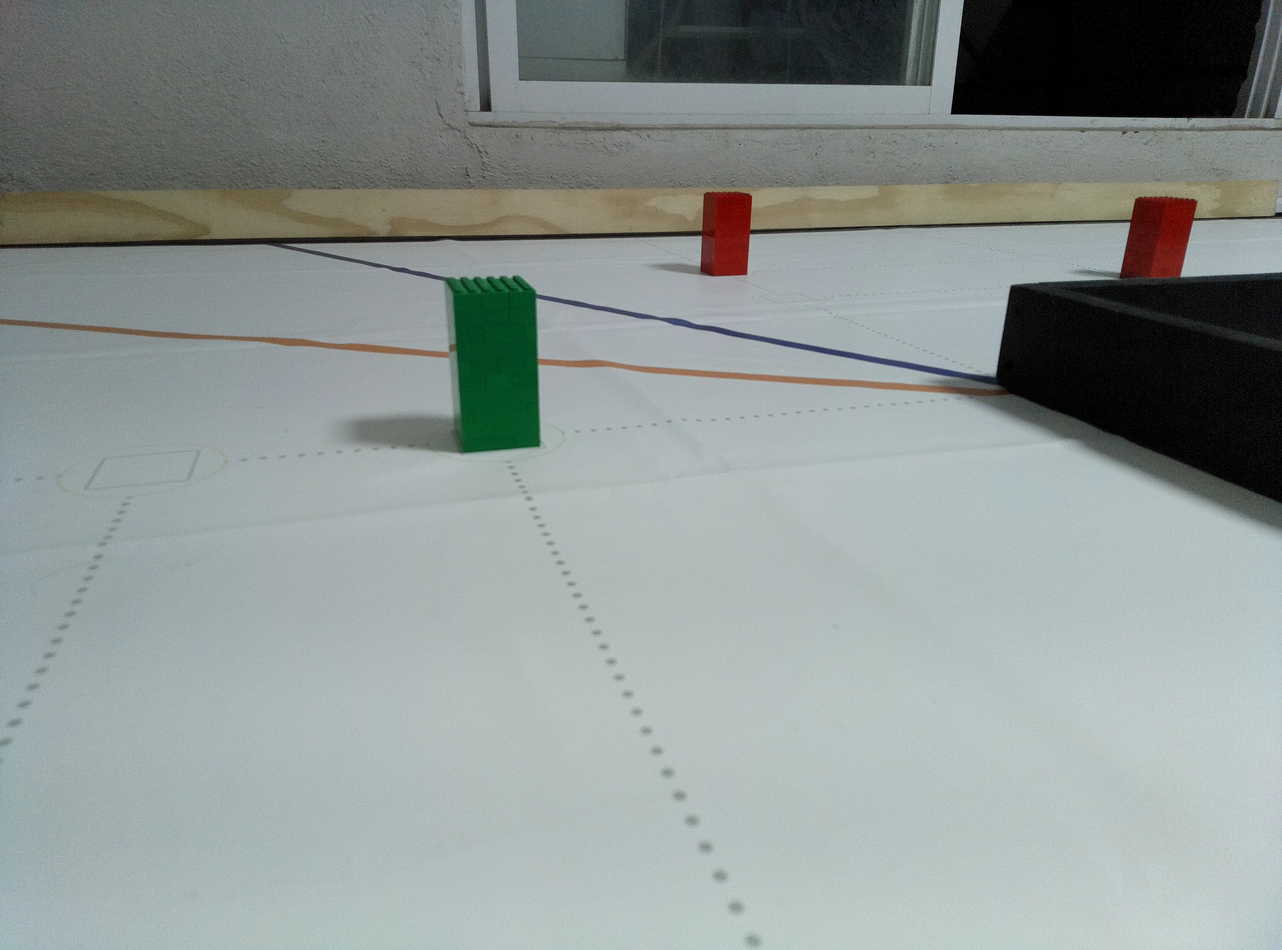greenbox: (443, 275, 543, 454)
redbox: (1119, 196, 1198, 279), (701, 191, 753, 276)
